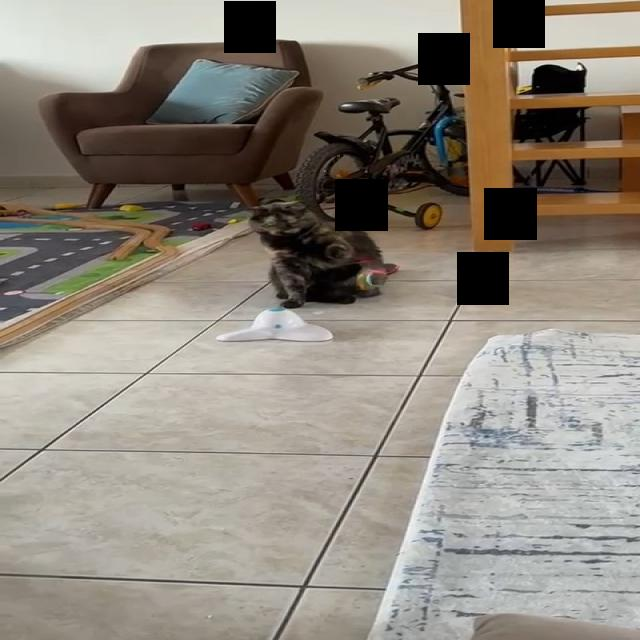authorized: (245, 198, 398, 308)
